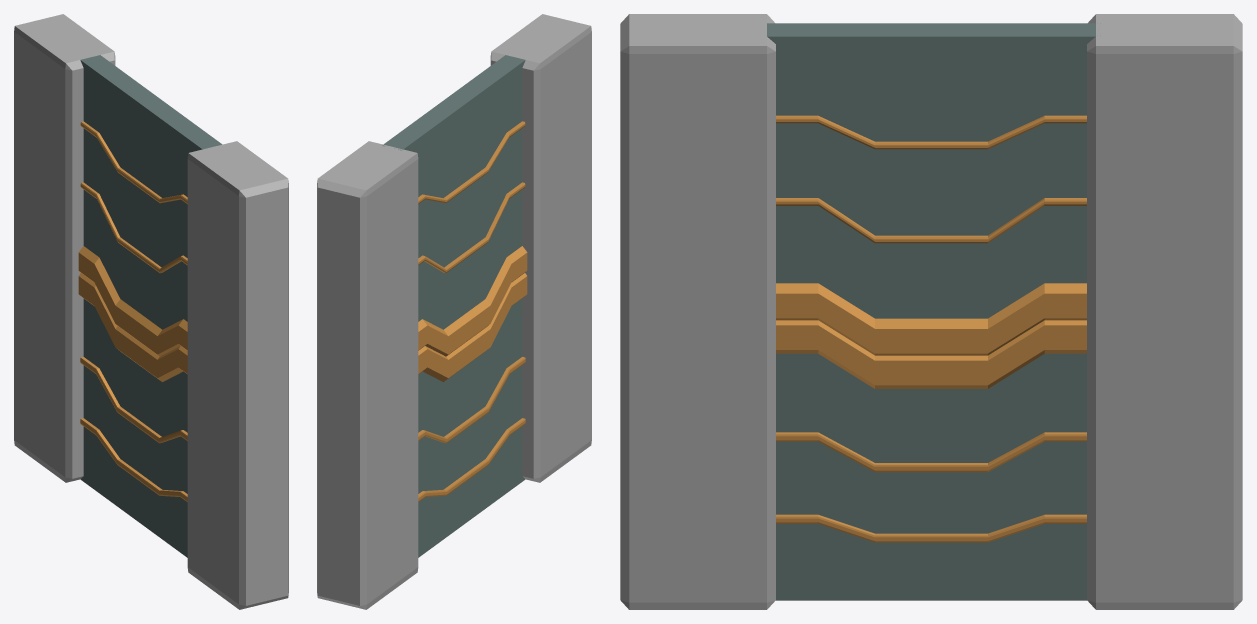
The model's file is Doors001.fbx.
3 views of the same model, side by side, from view 1: azimuth 30°, elevation 25°; view 2: azimuth 150°, elevation 25°; view 3: azimuth 270°, elevation 25° (orthographic). The views are drawn at different scales.
Parts seen in each view (by area): view 1: Cube.002; view 2: Cube.002; view 3: Cube.002.
Part boxes in pixels (x1,y1,x2,y2): Cube.002: [14, 14, 288, 609]; Cube.002: [317, 14, 591, 609]; Cube.002: [620, 14, 1242, 609].
Bounding box in the file's own units: 100 × 800 × 800.
